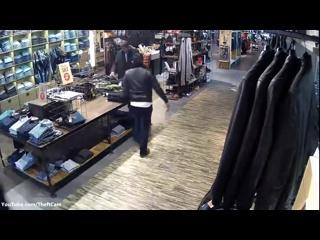Normal: (121, 52, 170, 158), (110, 38, 140, 80)
